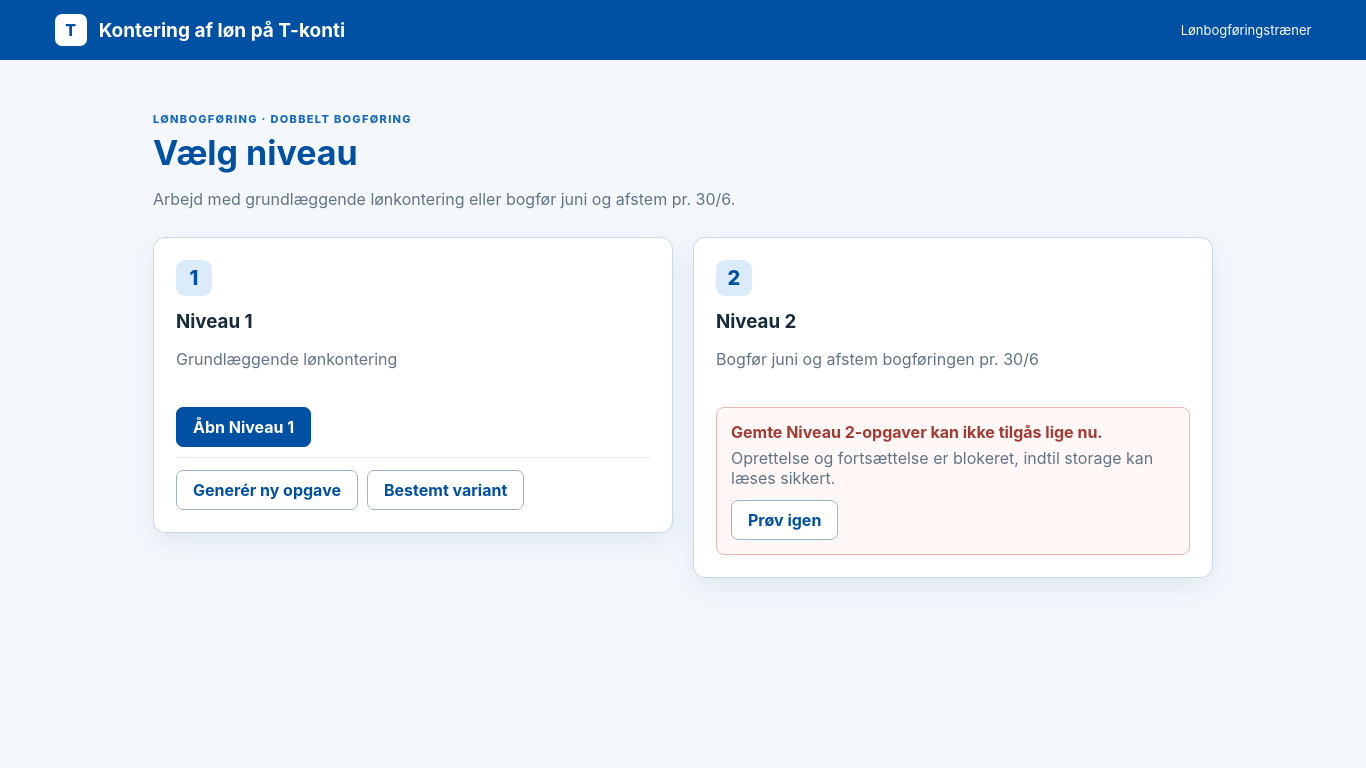
Test: J3C active V2.1 Home and lifecycle integration › shows storage failure safely and retries the typed load without generation
Expected: the message shows "kan ikke tilgås lige nu", [731,422,1103,442]
Click the button "Prøv igen" at (785, 520), box [731,500,838,540]
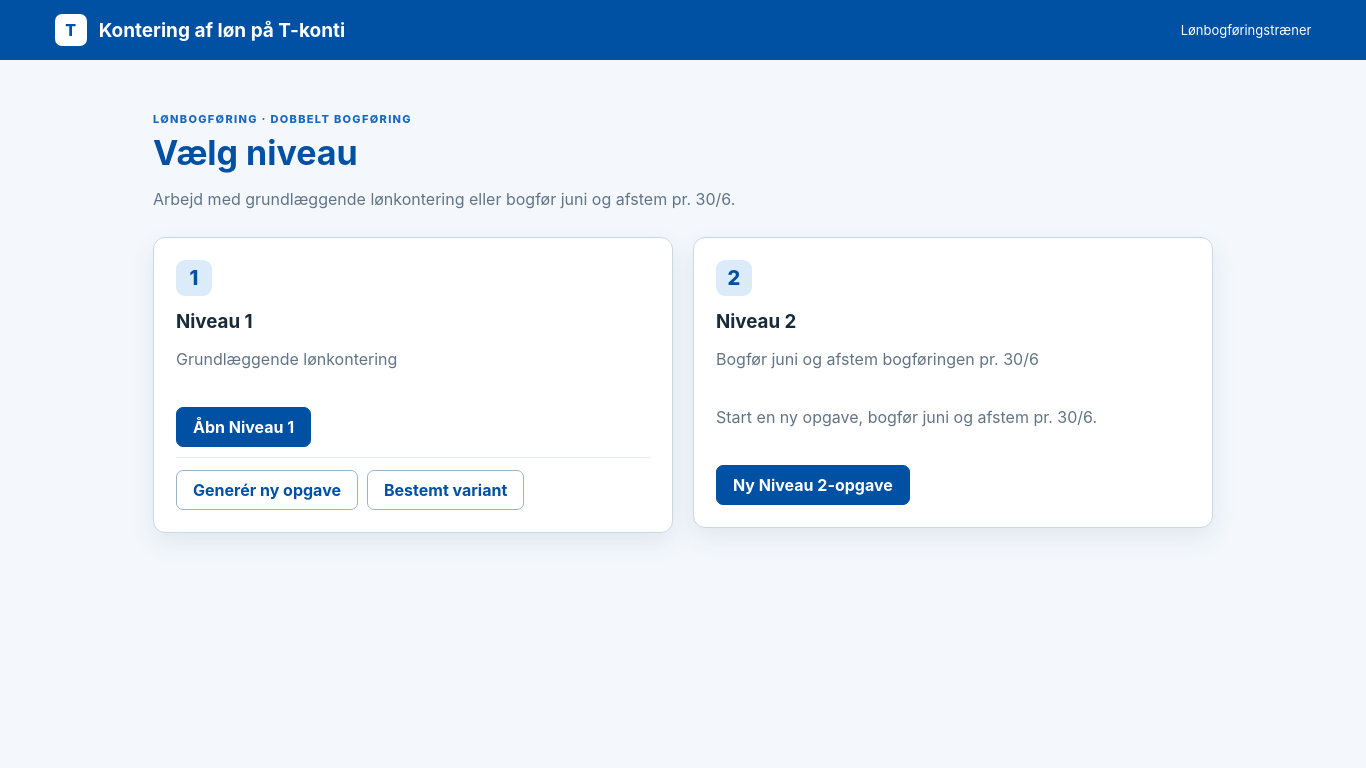
Expected: the button "Ny Niveau 2-opgave" is shown, [716,465,910,505]
